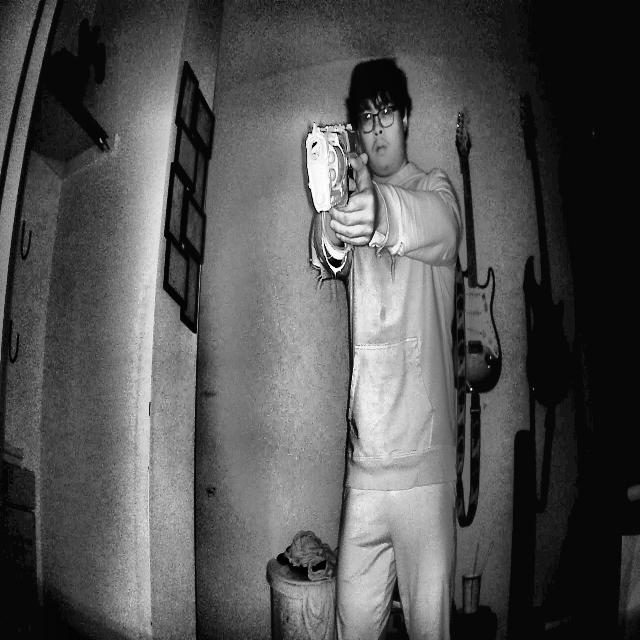Nerf_Blaster: (302, 109, 375, 265)
